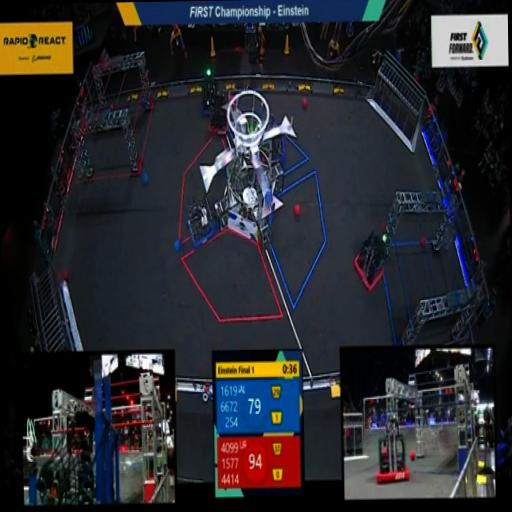robot: (348, 222, 392, 292), (183, 187, 218, 256), (195, 59, 219, 125), (201, 92, 230, 142)
